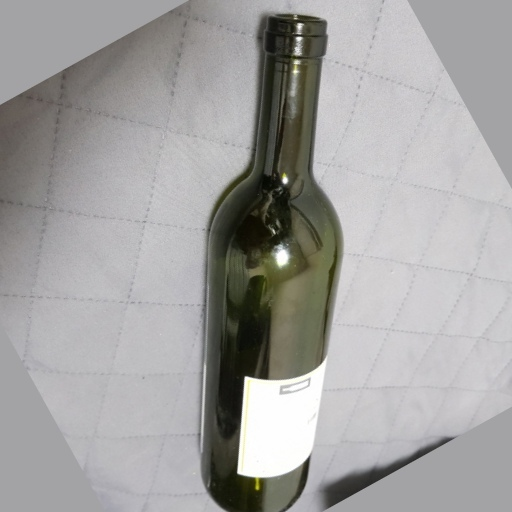Glass_2: (199, 11, 348, 512)
